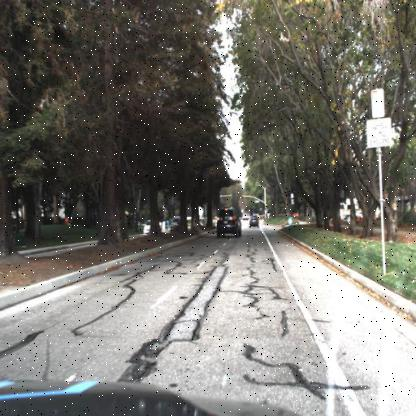car: (216, 204, 242, 240), (141, 217, 161, 237), (247, 213, 261, 230)
